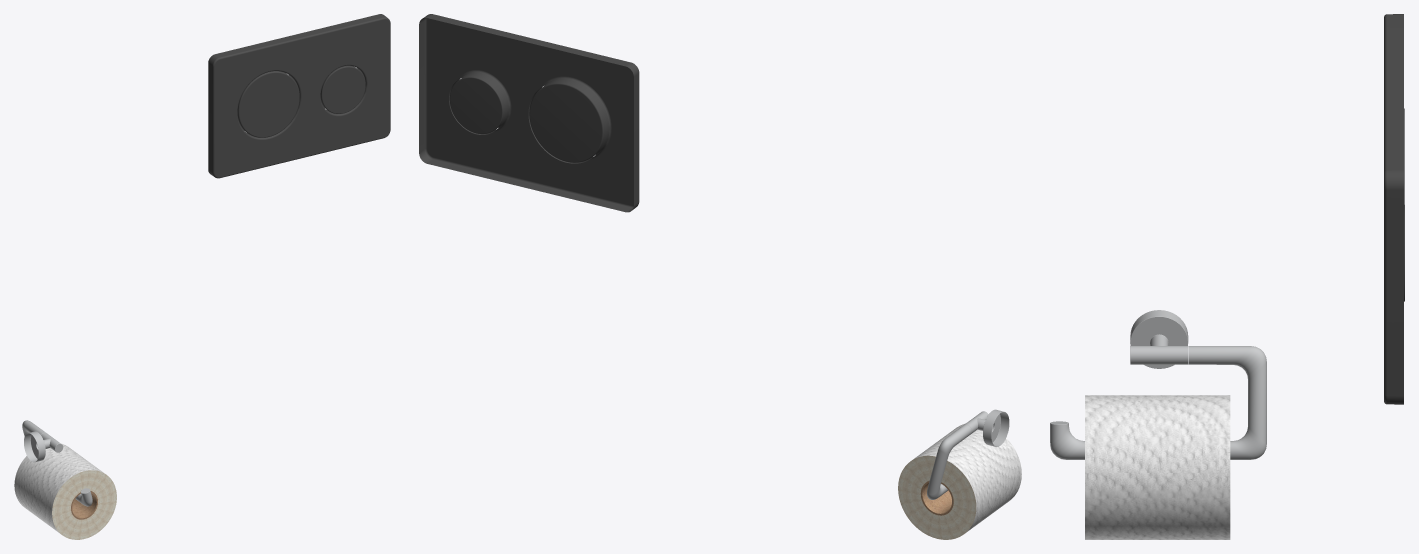
The picture shows the model from 3 angles, left to right: view 1: azimuth 30°, elevation 25°; view 2: azimuth 150°, elevation 25°; view 3: azimuth 270°, elevation 25°; orthographic projection. The views are drawn at different scales.
Parts seen in each view (by area): view 1: Item_flush control, Item_toilet; view 2: Item_flush control, Item_toilet; view 3: Item_toilet, Item_flush control.
Boxes of the visible parts, x1=… form: Item_flush control: x1=208, y1=14, x2=390, y2=178; Item_toilet: x1=14, y1=420, x2=116, y2=539; Item_flush control: x1=419, y1=14, x2=639, y2=212; Item_toilet: x1=898, y1=409, x2=1021, y2=539; Item_toilet: x1=1050, y1=310, x2=1266, y2=539; Item_flush control: x1=1384, y1=14, x2=1404, y2=404.
Bounding box in the file's own units: 0.6043 × 0.5141 × 0.23.
5 materials, 3 textured.
